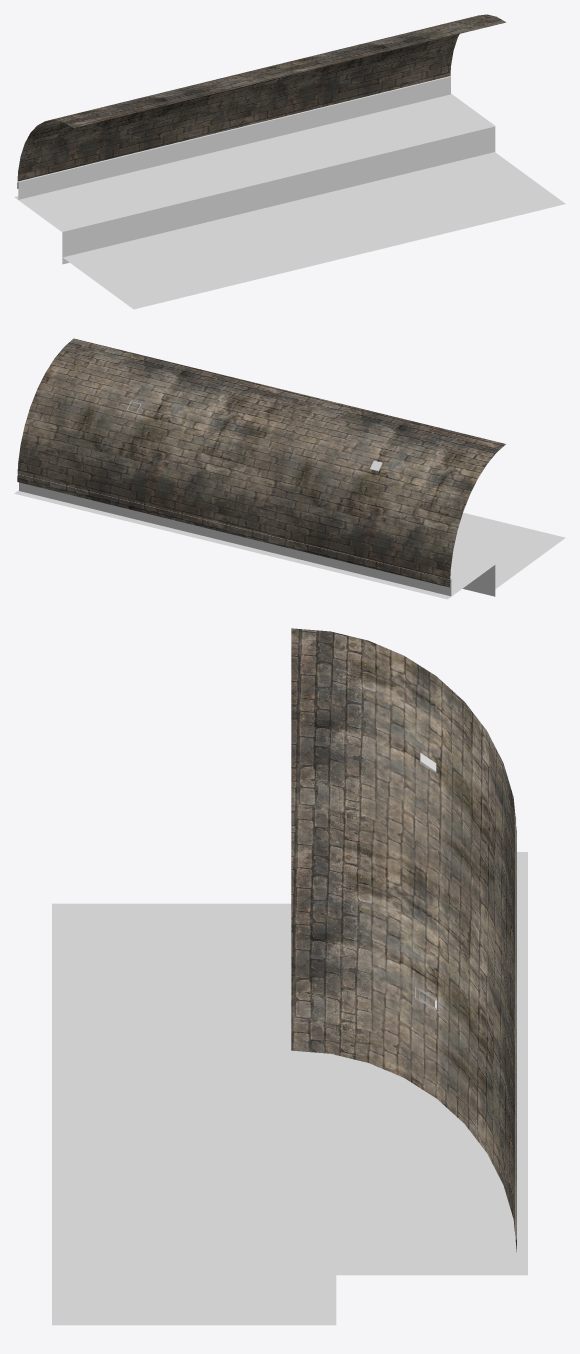
File: Sewer fix.fbx
3 views of the same model, one above another, from view 1: azimuth 30°, elevation 25°; view 2: azimuth 150°, elevation 25°; view 3: azimuth 270°, elevation 25° (orthographic). The views are drawn at different scales.
Visible parts, largest first — view 1: Sewer_merged-81_m, Cylinder, Sewer_merged-75_m; view 2: Cylinder, Sewer_merged-81_m, Sewer_merged-75_m; view 3: Sewer_merged-81_m, Cylinder, Sewer_merged-75_m.
Part boxes in pixels (x1,y1,x2,y2): Sewer_merged-81_m: (14, 93, 565, 309); Cylinder: (17, 14, 505, 188); Sewer_merged-75_m: (17, 76, 495, 264); Cylinder: (17, 338, 505, 587); Sewer_merged-81_m: (14, 490, 565, 599); Sewer_merged-75_m: (19, 474, 495, 596); Sewer_merged-81_m: (52, 852, 527, 1325); Cylinder: (291, 628, 516, 1251); Sewer_merged-75_m: (511, 817, 516, 1239).
Size of the model in its own units: 2173 by 692 by 1033.
Materials: 6 (1 with a texture image).
